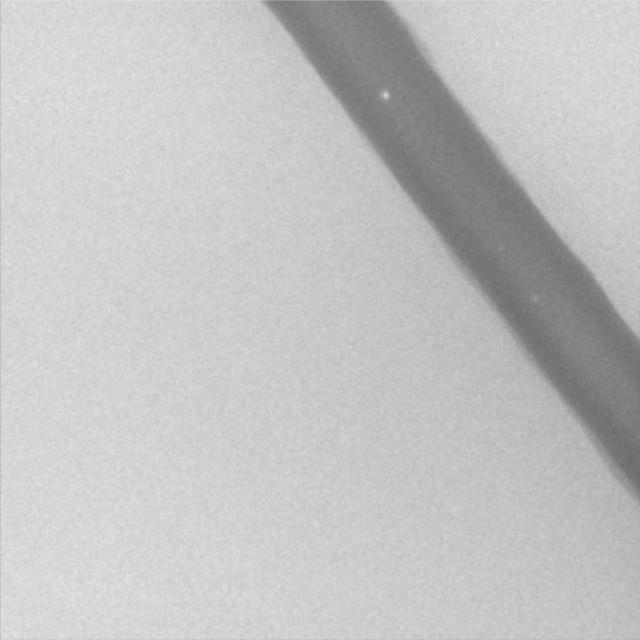air hole: (380, 88, 390, 101)
